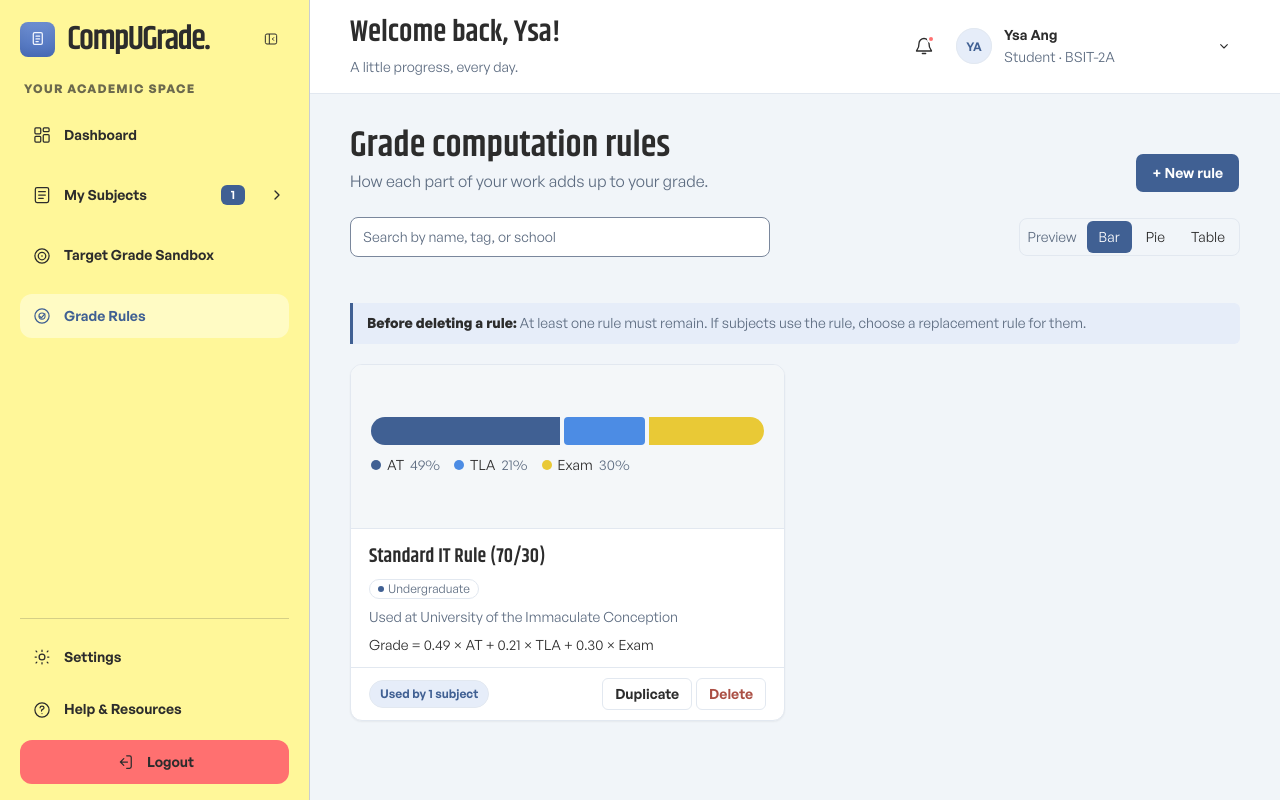
Test: unreadable stored data › Duplicate saves nothing and says why
This screenshot has width=1280, height=800.
Click the button "Duplicate" at (647, 694), box [602,678,692,710]
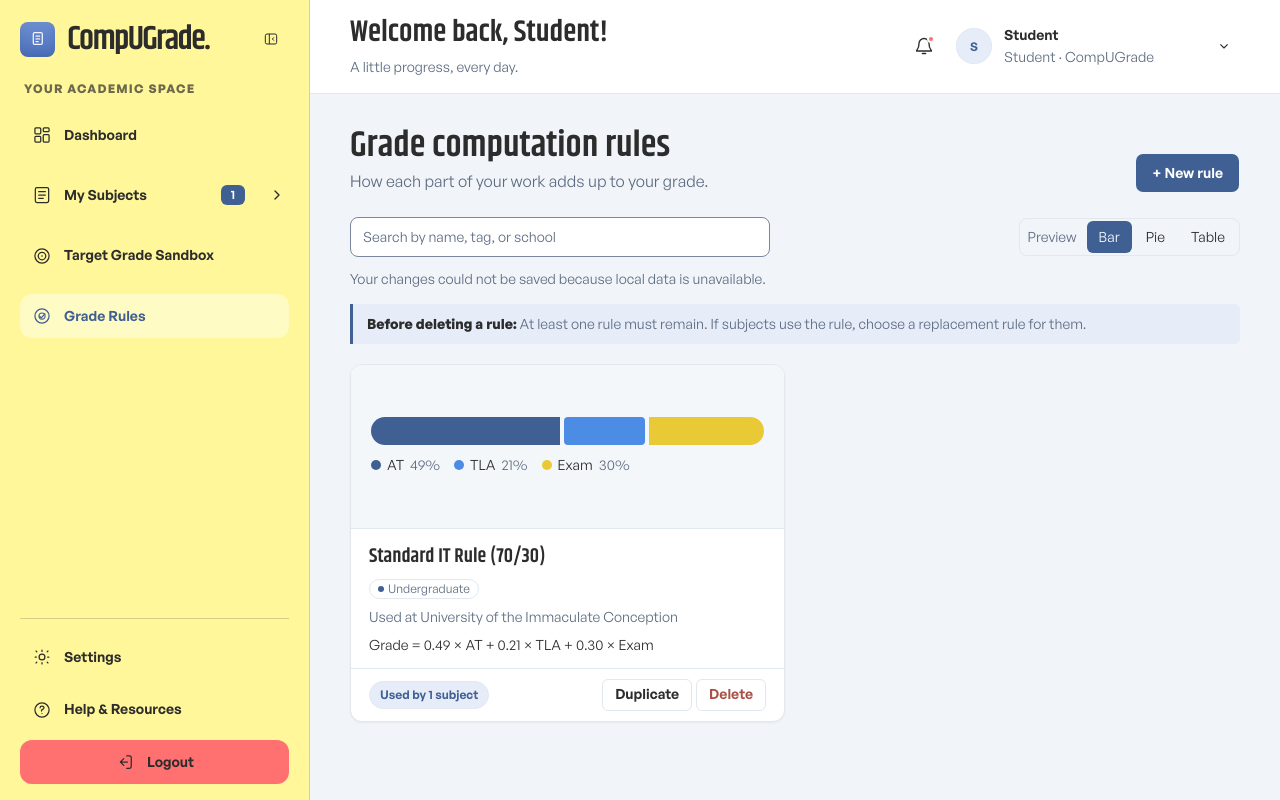
Now the message reads "Your changes could not be saved because local data is unavailable.", box [350,270,766,287]
